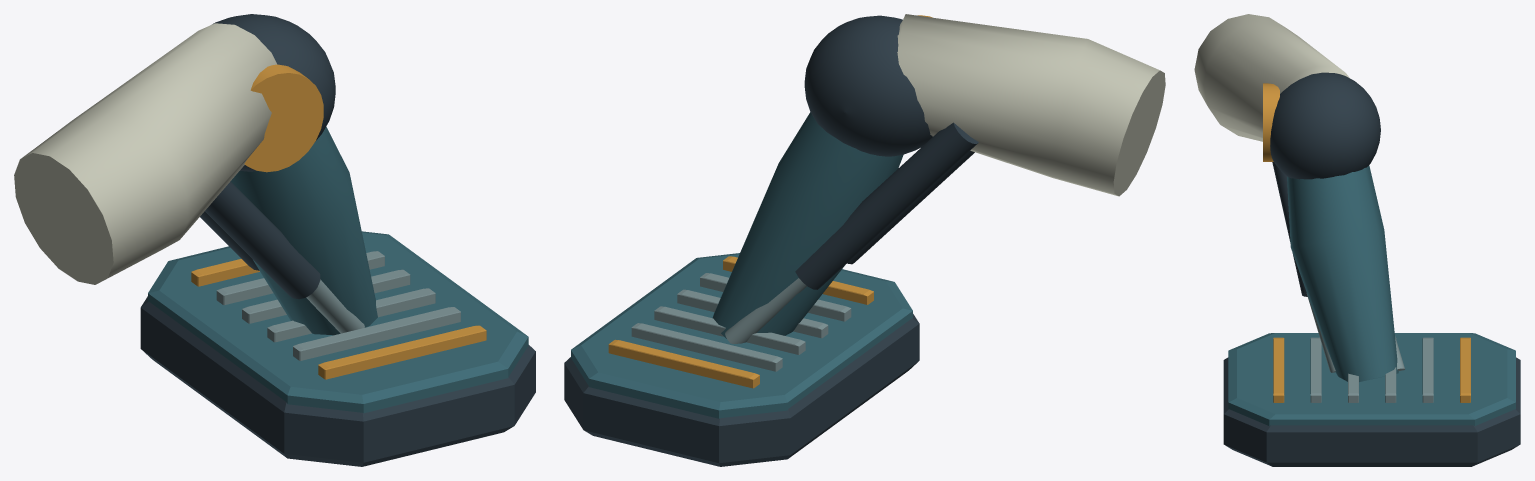
File: tempest_leg.glb
3 views of the same model, side by side, from view 1: azimuth 30°, elevation 25°; view 2: azimuth 150°, elevation 25°; view 3: azimuth 270°, elevation 25° (orthographic). The views are drawn at different scales.
Parts seen in each view (by area): view 1: tempest_leg; view 2: tempest_leg; view 3: tempest_leg.
Part boxes in pixels (<box>): tempest_leg: <box>14,14,535,466</box>; tempest_leg: <box>564,14,1165,466</box>; tempest_leg: <box>1194,14,1520,466</box>.
Bounding box in the file's own units: 15.52 × 12.34 × 11.87.
